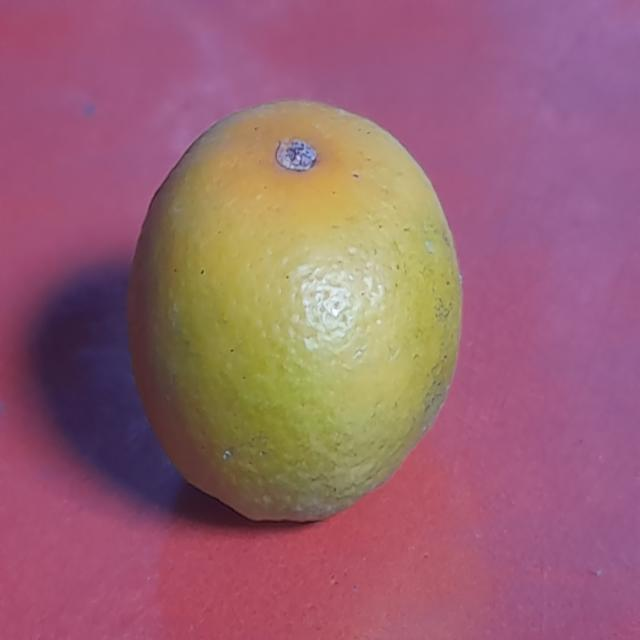greening: (122, 91, 466, 542)
